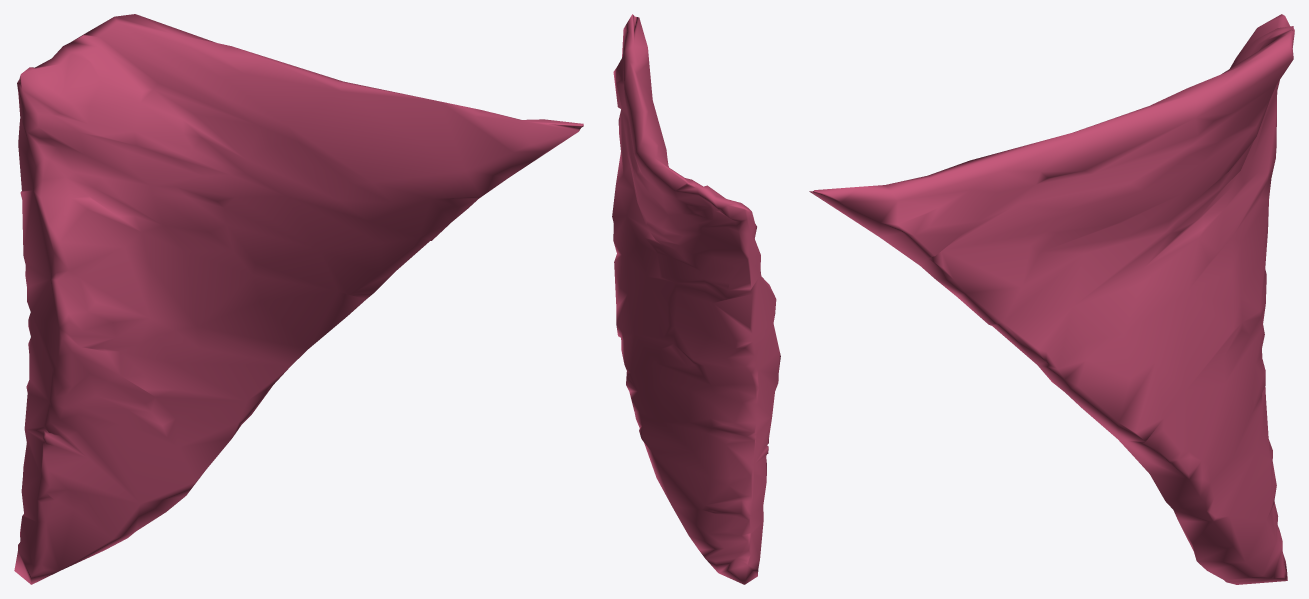
The picture shows the model from 3 angles, left to right: view 1: azimuth 30°, elevation 25°; view 2: azimuth 150°, elevation 25°; view 3: azimuth 270°, elevation 25°; orthographic projection. The views are drawn at different scales.
Visible parts, largest first — view 1: 左侧下颌舌骨肌; view 2: 左侧下颌舌骨肌; view 3: 左侧下颌舌骨肌.
Boxes of the visible parts, box(x1,y1,x2,y2) form: 左侧下颌舌骨肌: box(14, 14, 583, 584); 左侧下颌舌骨肌: box(612, 14, 780, 584); 左侧下颌舌骨肌: box(809, 14, 1294, 584).
Size of the model in its own units: 0.0397 by 0.0557 by 0.0412.
